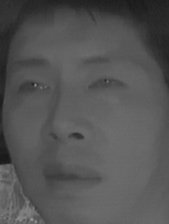eye: (86, 74, 127, 97), (15, 77, 51, 99)
mouth: (42, 155, 104, 198)
